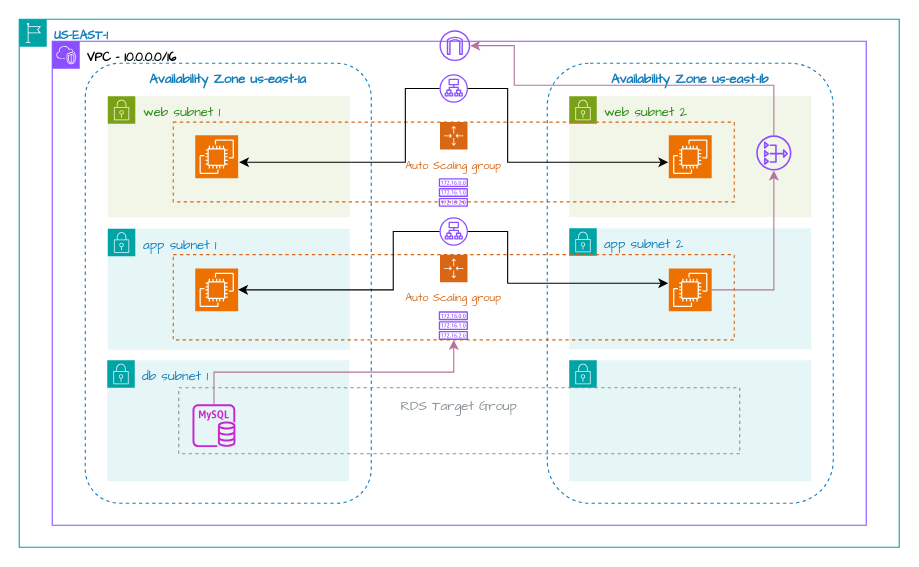
The diagram is 919 pixels wide and 567 high, and some of its shapes have lost their labels. Here are the shapes that lost their labels. From the top down, the centre of each, then its label:
(773,152): NAT Gateway
(689,420): db subnet 2
